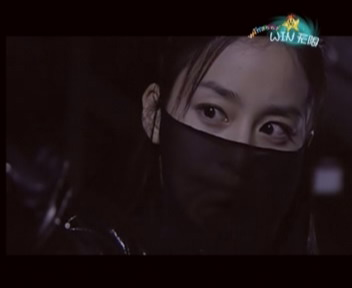face_mask: (169, 43, 314, 222)
